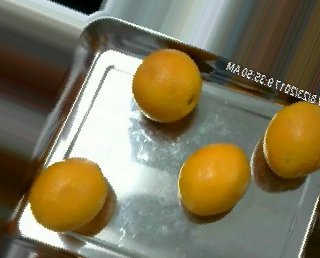Orange: (29, 157, 109, 233), (177, 140, 250, 215), (133, 47, 202, 122), (262, 100, 320, 178)
